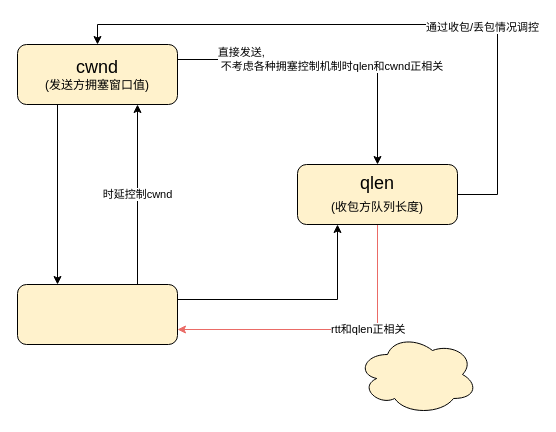
Some shapes in this 556 by 432 pixel diagram are drawn without their labels. The centre of each missing label's shape, as x and y in pixels:
"Buffer Bloat问题: qlen较长时rtt较大" belongs at (x=417, y=374).
"rtt (链路 h1-h2 上的往返时延)" belongs at (x=97, y=314).
